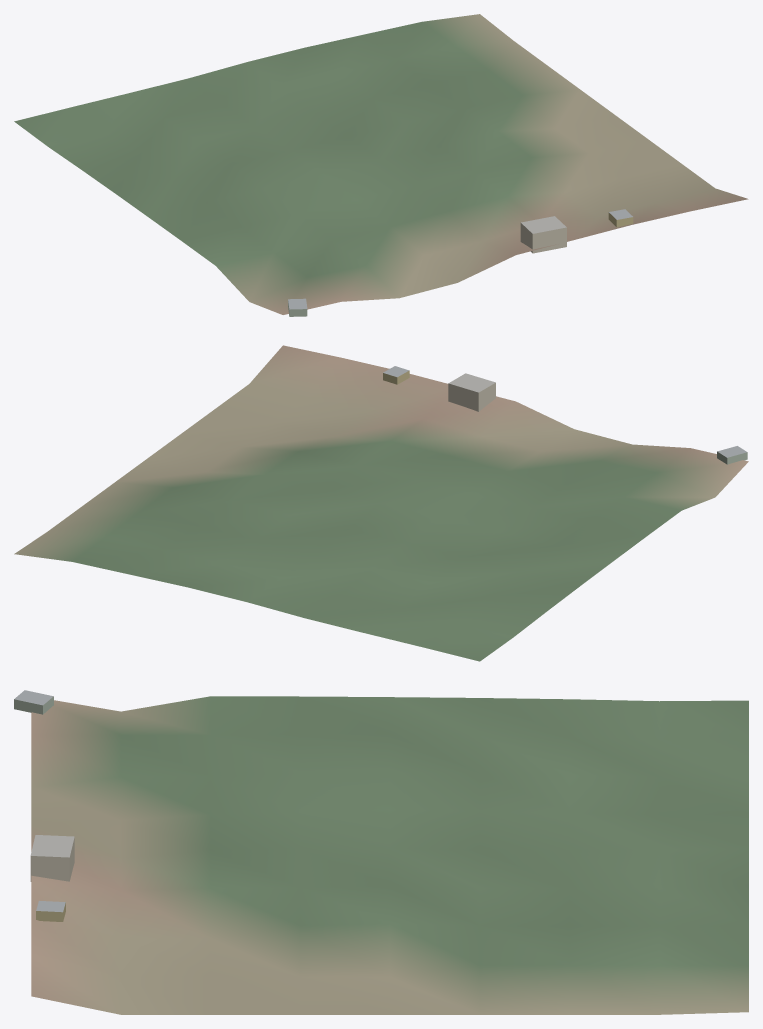
3 views of the same model, one above another, from view 1: azimuth 30°, elevation 25°; view 2: azimuth 150°, elevation 25°; view 3: azimuth 270°, elevation 25° (orthographic). The views are drawn at different scales.
Parts seen in each view (by area): view 1: Lo; view 2: Lo; view 3: Lo.
Boxes of the visible parts, x1,y1,x2,y2 form: Lo: (14, 14, 748, 316); Lo: (14, 345, 748, 661); Lo: (14, 690, 748, 1014).
Size of the model in its own units: 256 by 15.88 by 262.
